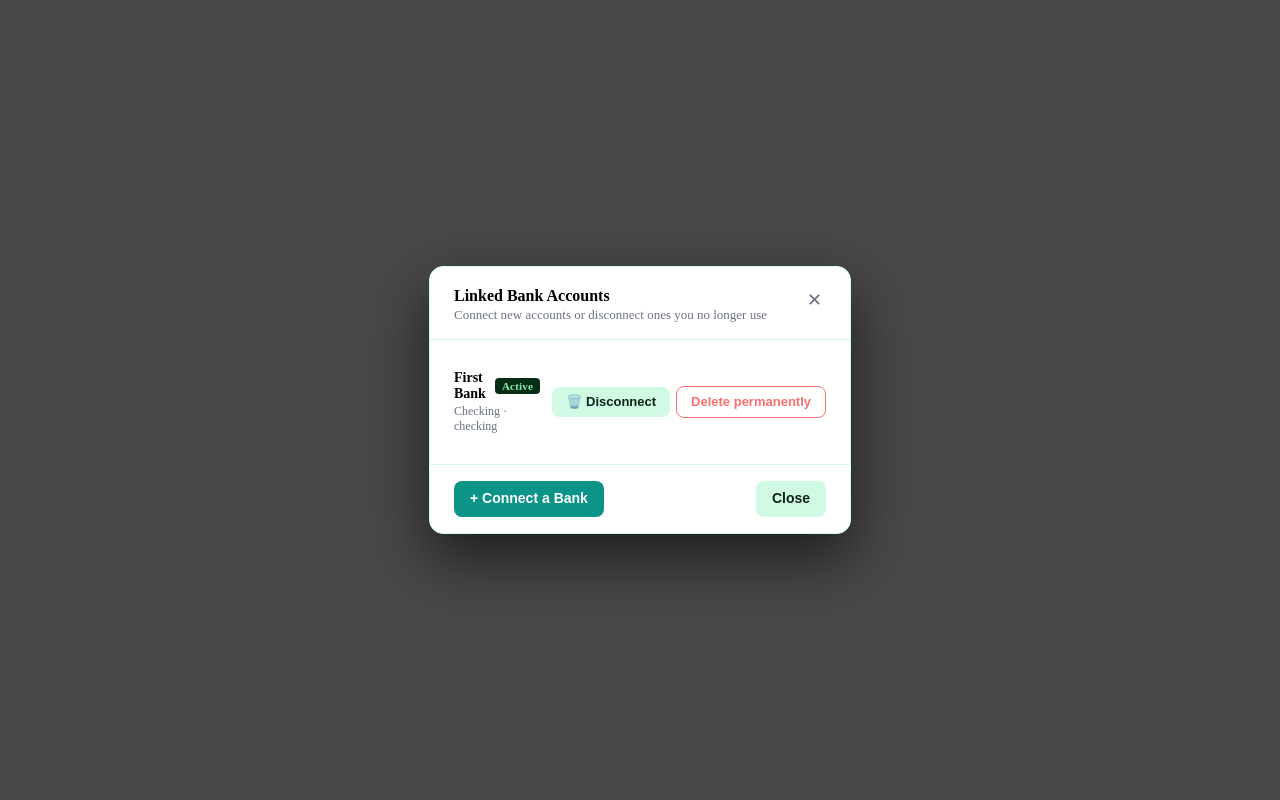
Test case: shows SDK error when TellerConnect is not on window
The image size is (1280, 800).
Step 1. Click the button "+ Connect a Bank" → (529, 499), box [454,481,604,517]
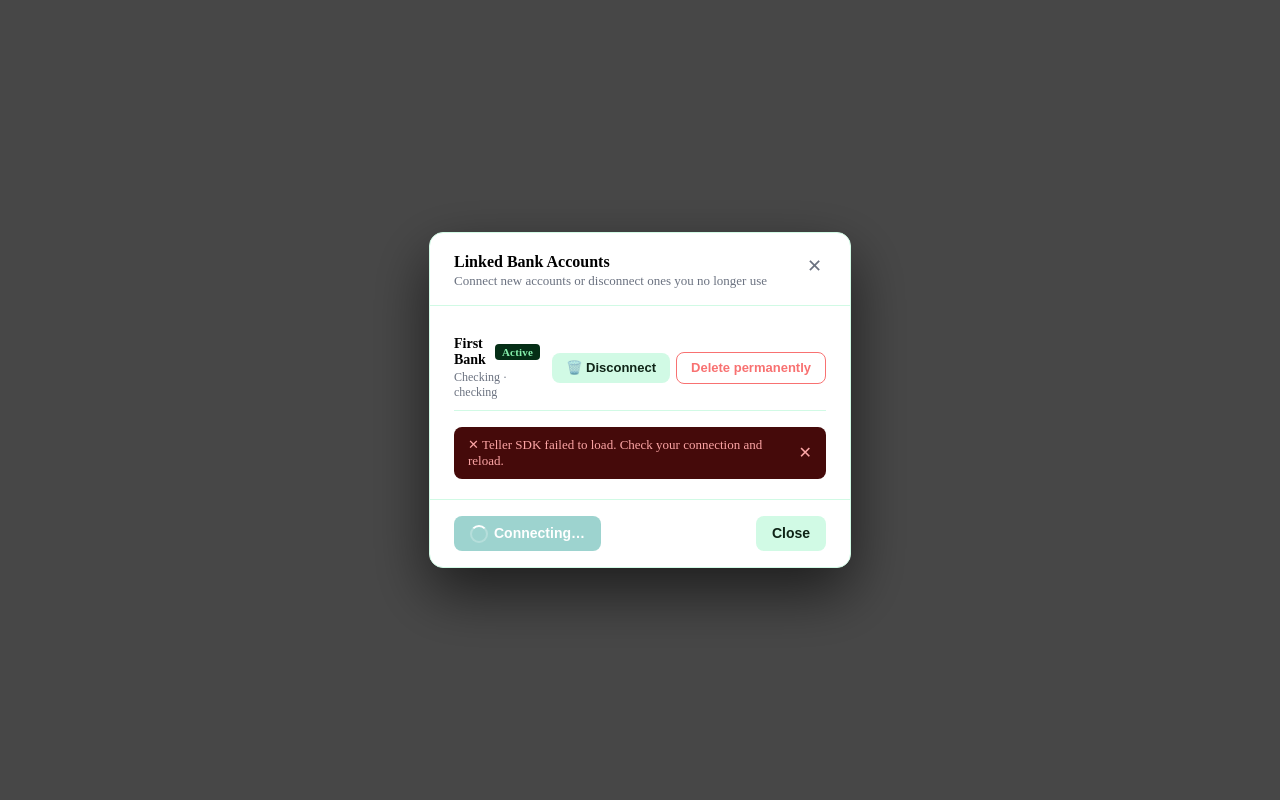
Expected: the text "Teller SDK failed to load" is shown, [468,437,762,468]
